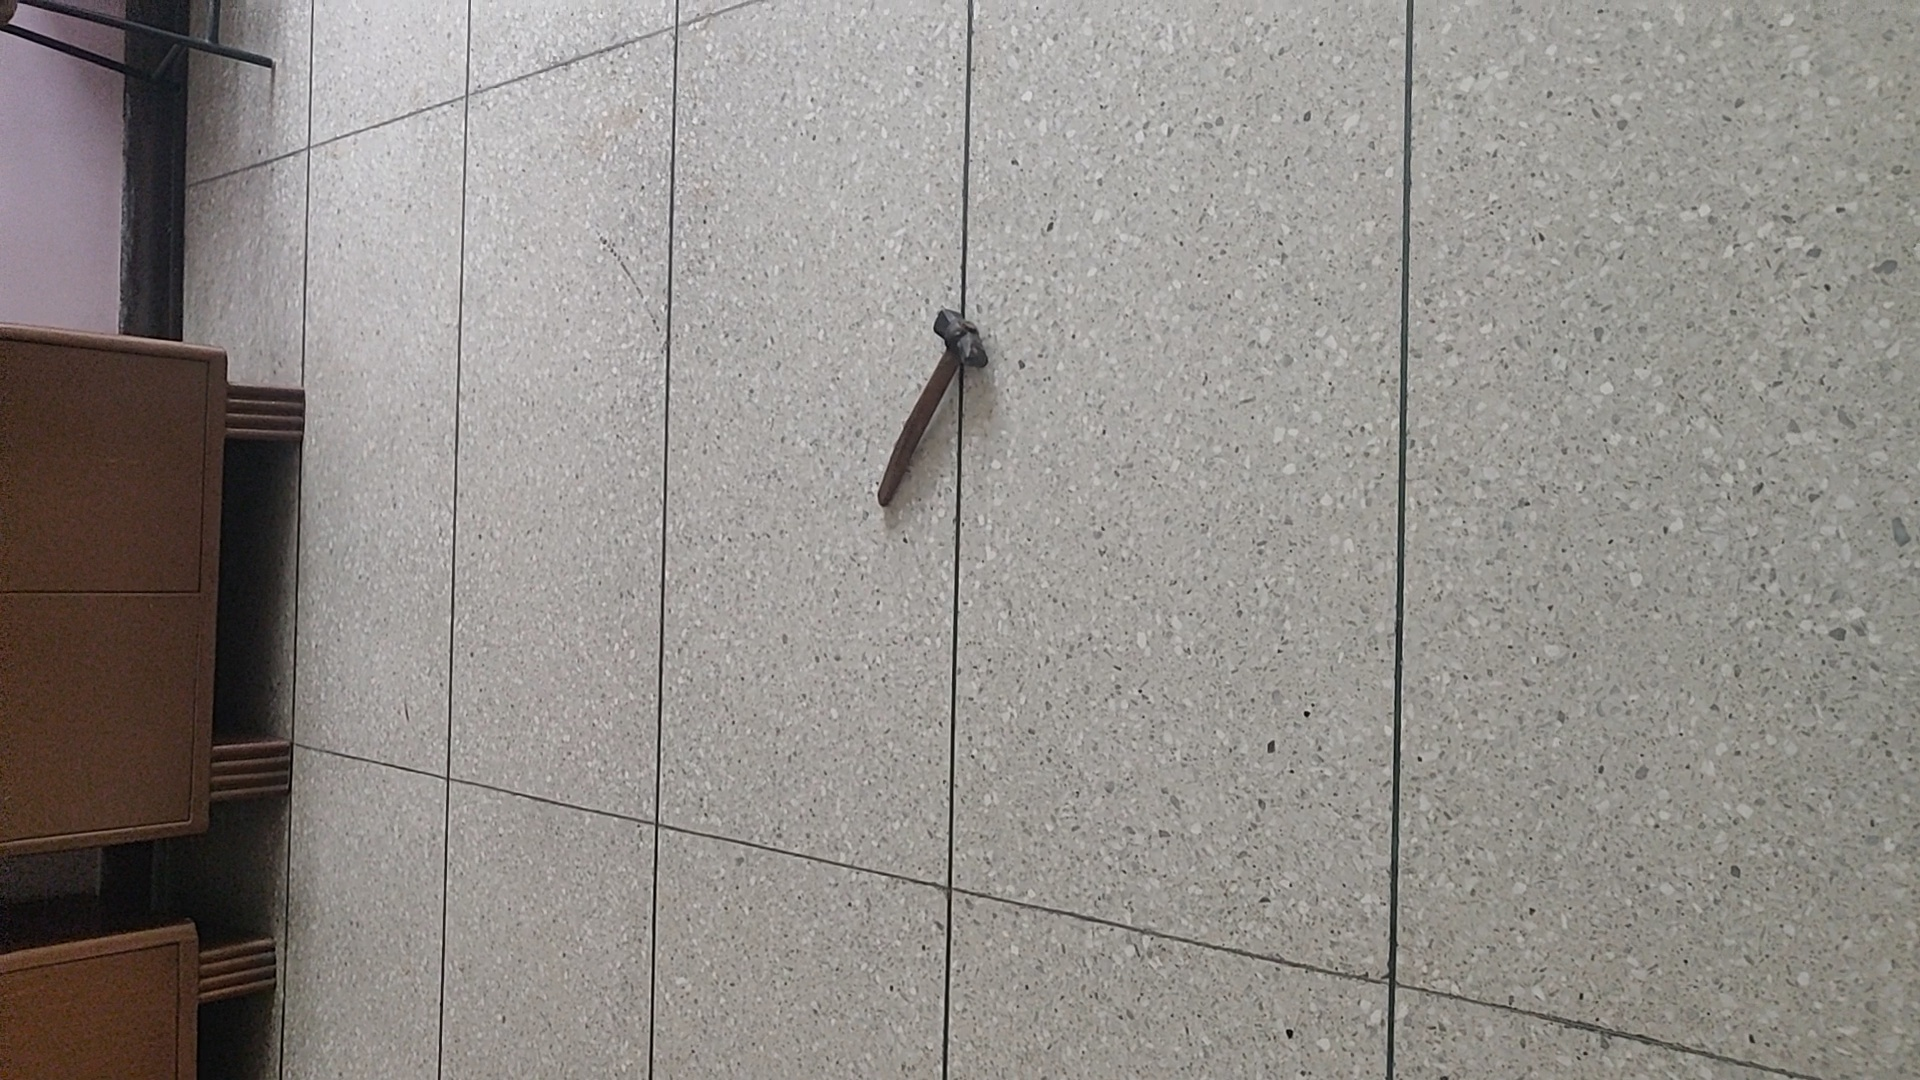hammer: (874, 305, 989, 510)
